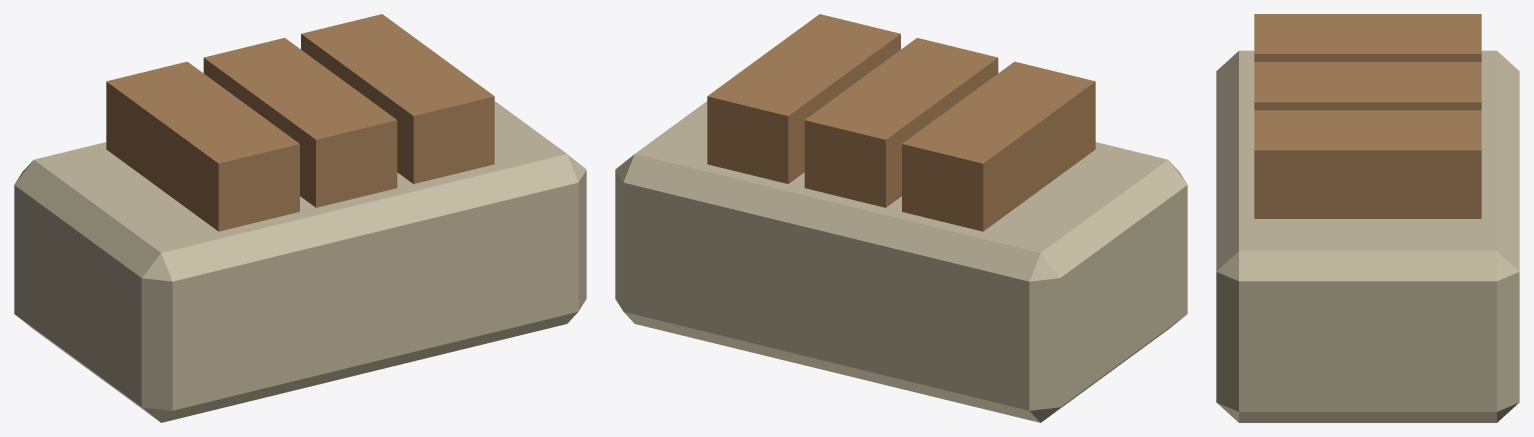
File: set_tea_box.glb
3 views of the same model, side by side, from view 1: azimuth 30°, elevation 25°; view 2: azimuth 150°, elevation 25°; view 3: azimuth 270°, elevation 25° (orthographic).
Parts seen in each view (by area): view 1: set_tea_box; view 2: set_tea_box; view 3: set_tea_box.
Boxes of the visible parts, <box> form: set_tea_box: <box>14,14,586,422</box>; set_tea_box: <box>615,14,1187,422</box>; set_tea_box: <box>1216,14,1519,422</box>.
Bounding box in the file's own units: 0.274 × 0.14 × 0.16.
